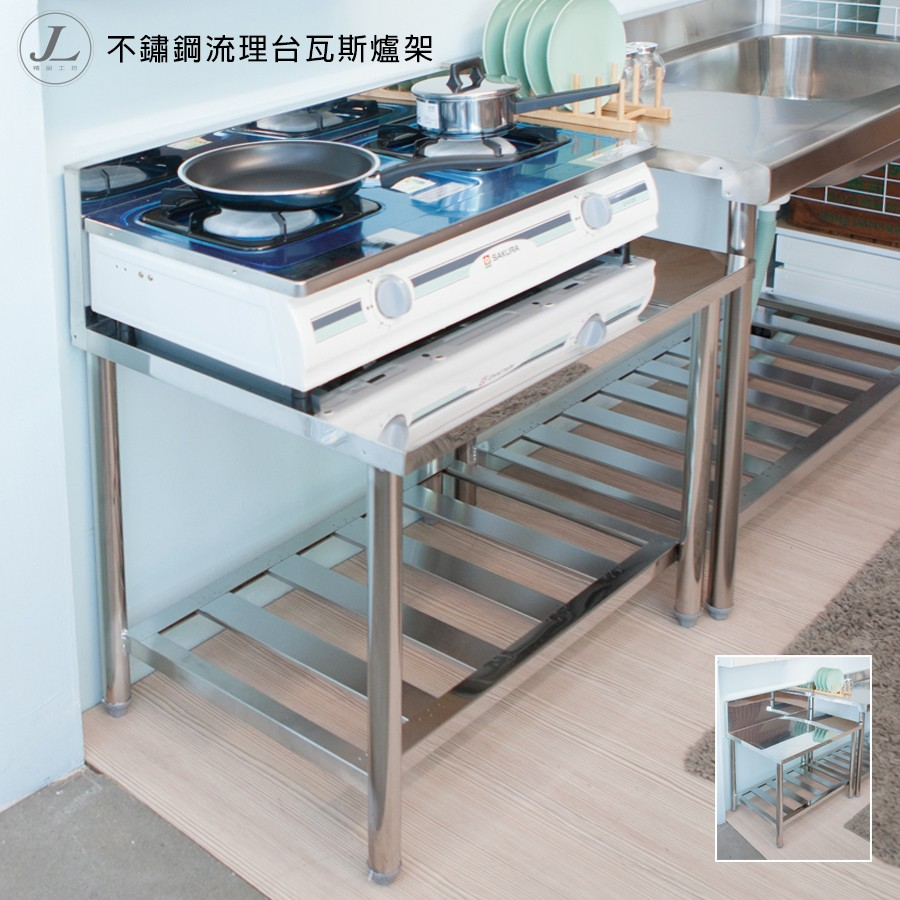gasoven: (80, 94, 669, 396)
